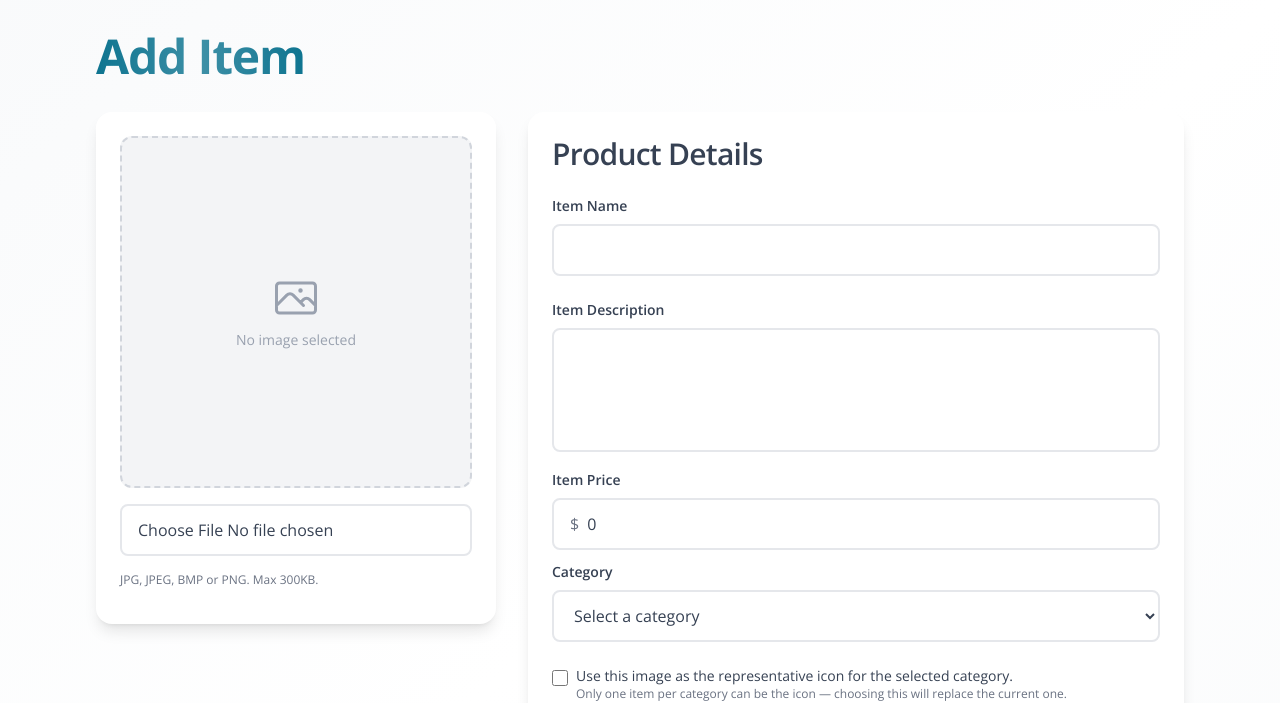
Scenario: CreateItemPage.vue › price rounding › coerces an empty price to 0 on blur (isNaN("") is false, so the guard does not skip it)
Clear the number field labelled "Item Price" at (865, 524), box [587,512,1142,536]
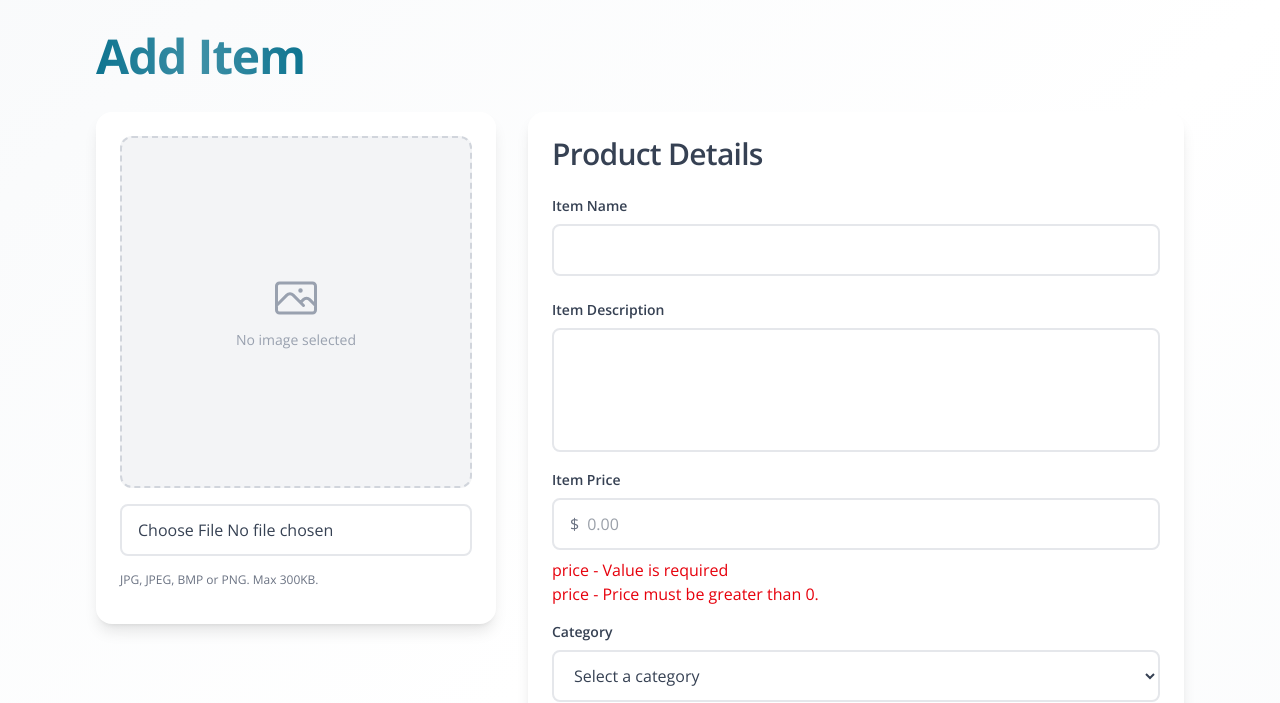
Leave the number field labelled "Item Price", box [587,512,1142,536]
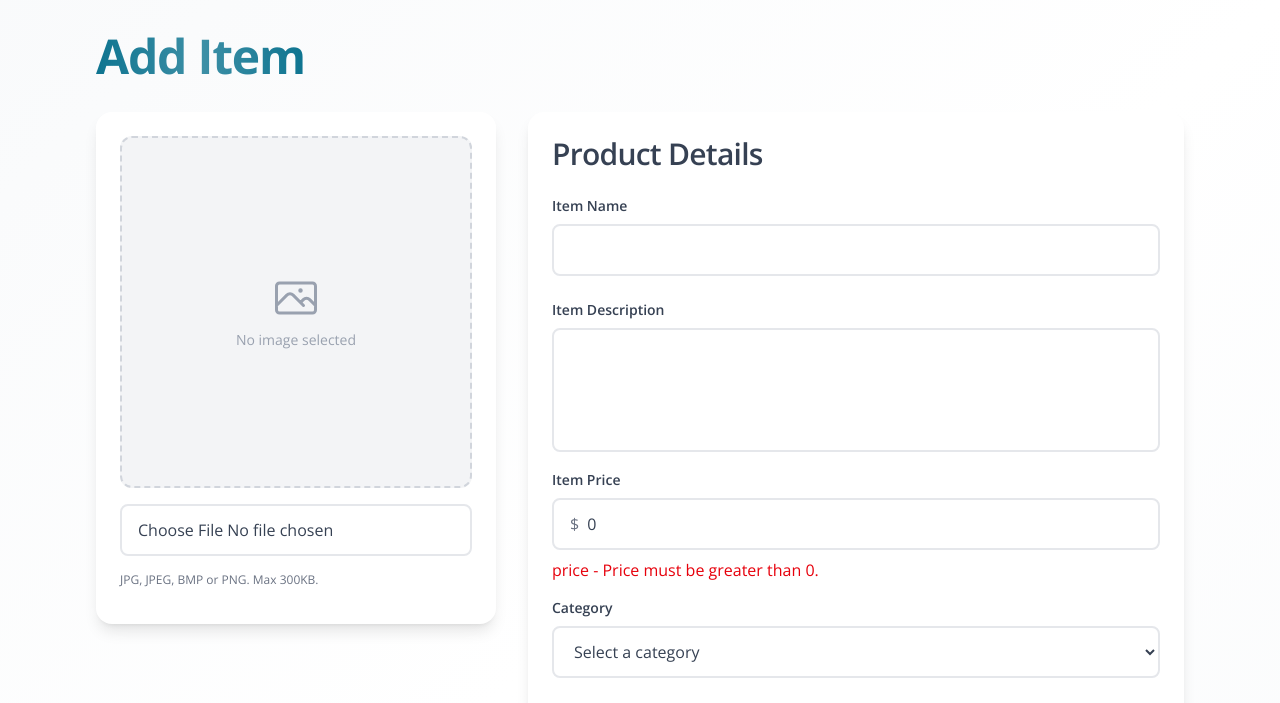
Expected: the number field labelled "Item Price" holds "0", [587,512,1142,536]
